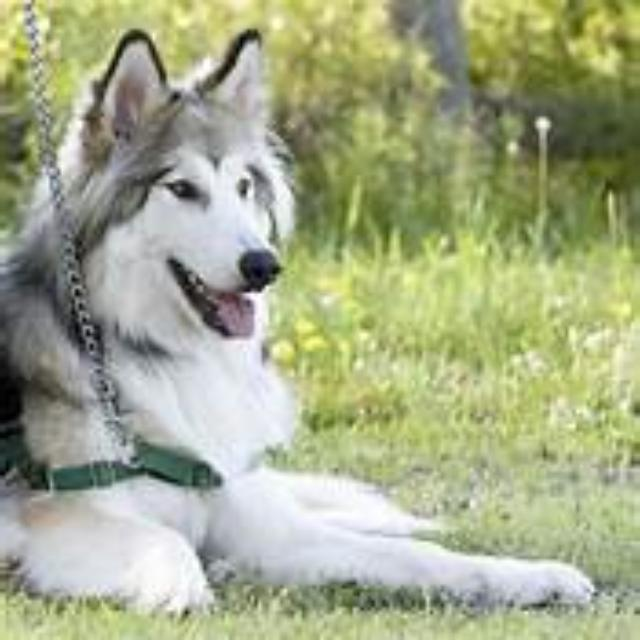dog: (1, 12, 499, 640), (0, 12, 1, 640)
